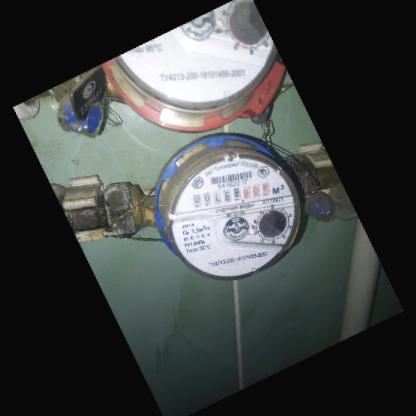digital_screen: (188, 185, 243, 211)
